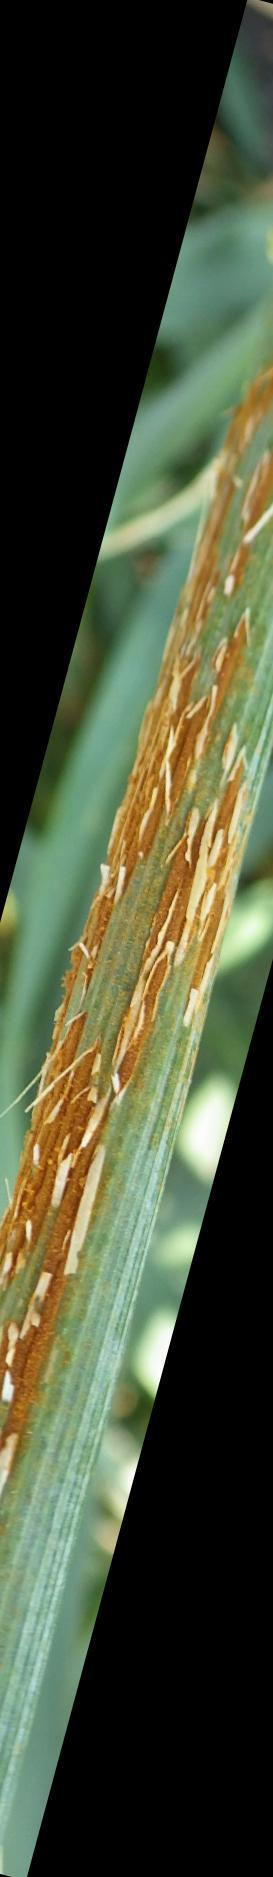Sugarcane: (13, 432, 256, 1514)
